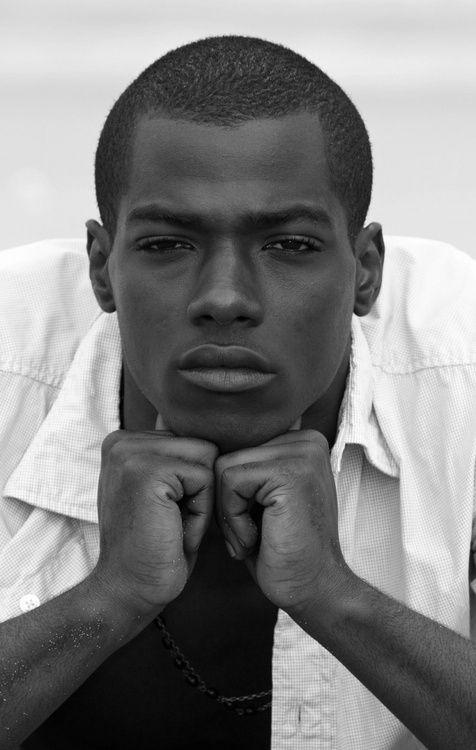Eyes: (131, 224, 203, 269), (252, 226, 324, 265)
